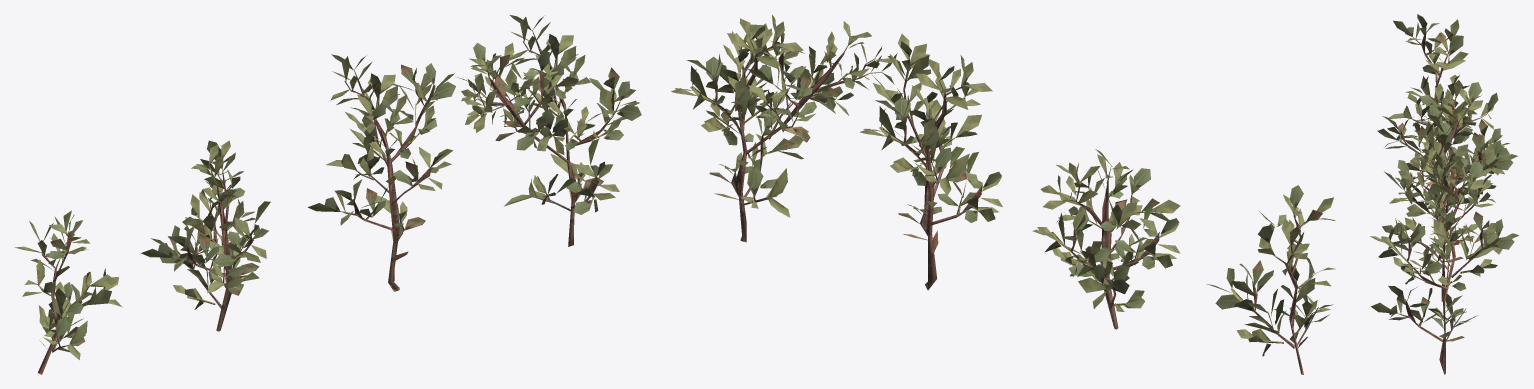
Rendered from shrub_04_lod0.gltf.
3 renders of one model, left to right at view 1: azimuth 30°, elevation 25°; view 2: azimuth 150°, elevation 25°; view 3: azimuth 270°, elevation 25°, orthographic. The views are drawn at different scales.
Visible parts, largest first — view 1: shrub_04_lod0; view 2: shrub_04_lod0; view 3: shrub_04_lod0.
Boxes of the visible parts, box(x1,y1,x2,y2) form: shrub_04_lod0: box(14, 15, 641, 374); shrub_04_lod0: box(671, 14, 1335, 374); shrub_04_lod0: box(1370, 14, 1519, 374).
Size of the model in its own units: 0.5832 by 0.2212 by 0.1457.
1 material, 1 textured.
